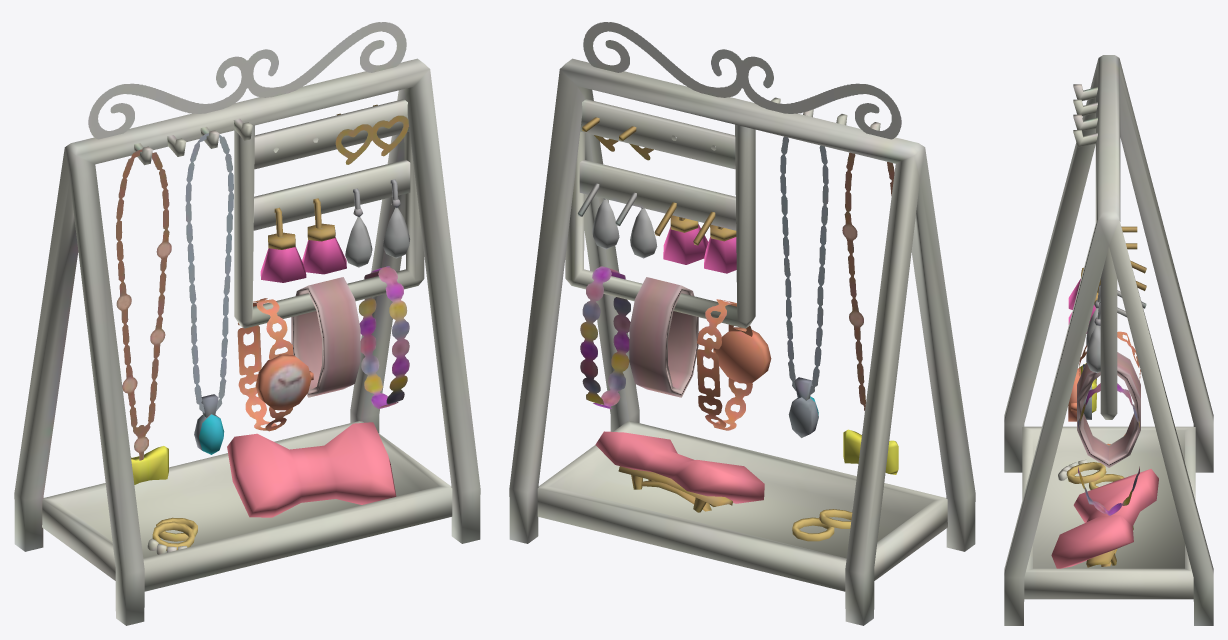
3 renders of one model, left to right at view 1: azimuth 30°, elevation 25°; view 2: azimuth 150°, elevation 25°; view 3: azimuth 270°, elevation 25°, orthographic. The views are drawn at different scales.
Bounding box in the file's own units: 5.89 × 7.74 × 3.21.
1 material, 1 textured.
